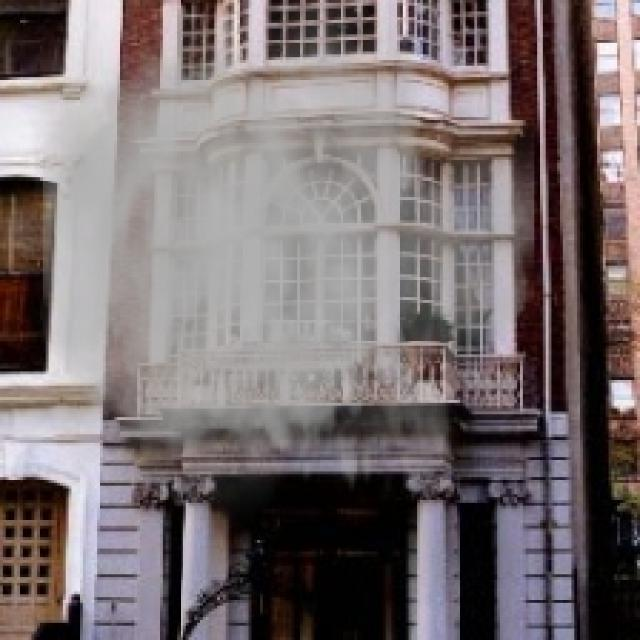smoke: (12, 0, 534, 549)
